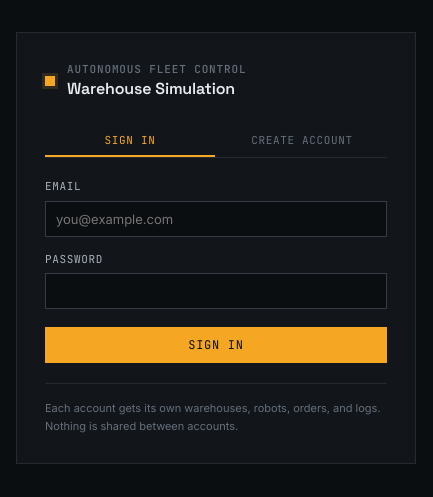
Scenario: login › shows the server's message verbatim on bad credentials, and stays on the gate
The image size is (433, 497).
Expected: the button "Sign in" below "Password" is shown, left=45, top=327, right=387, bottom=363
Type "ops@example.com" into the field labelled "Email" at (216, 219), box left=45, top=201, right=387, bottom=237
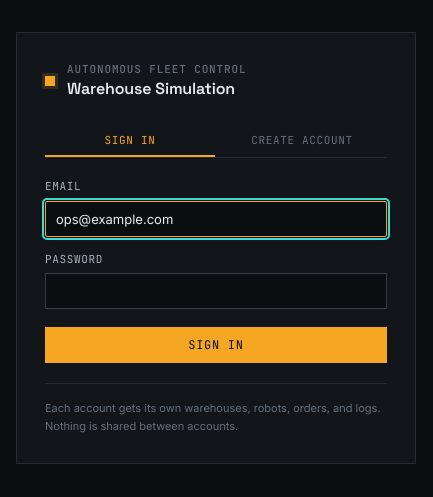
Type "correct-horse-battery" into the password field labelled "Password" at (216, 291), box left=45, top=273, right=387, bottom=309
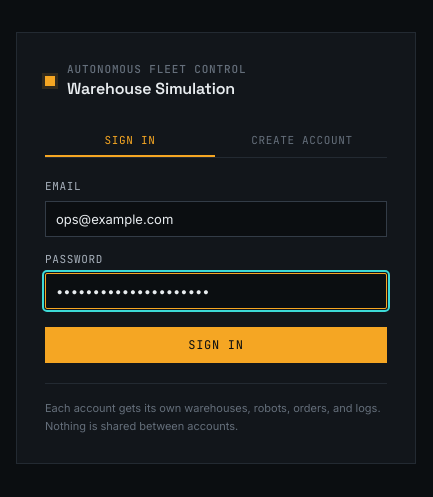
Click the button "Sign in" below "Password" at (216, 345), box left=45, top=327, right=387, bottom=363
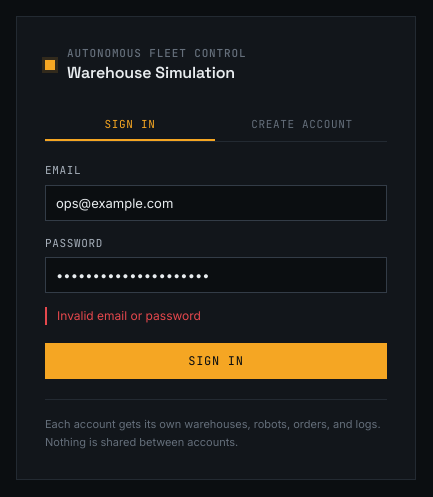
Expected: the button "Sign in" below "Invalid email or password" is shown, left=45, top=343, right=387, bottom=379
Now the message reads "Invalid email or password", box left=57, top=308, right=201, bottom=323
